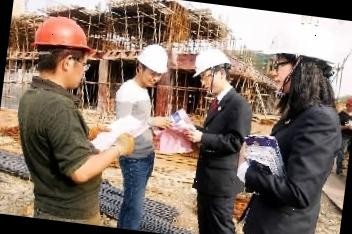helmet: (270, 20, 342, 68), (32, 11, 96, 54), (188, 46, 235, 82), (134, 41, 174, 78)
no_wear: (9, 86, 106, 211), (259, 105, 334, 234), (195, 91, 252, 194), (112, 84, 159, 162)
